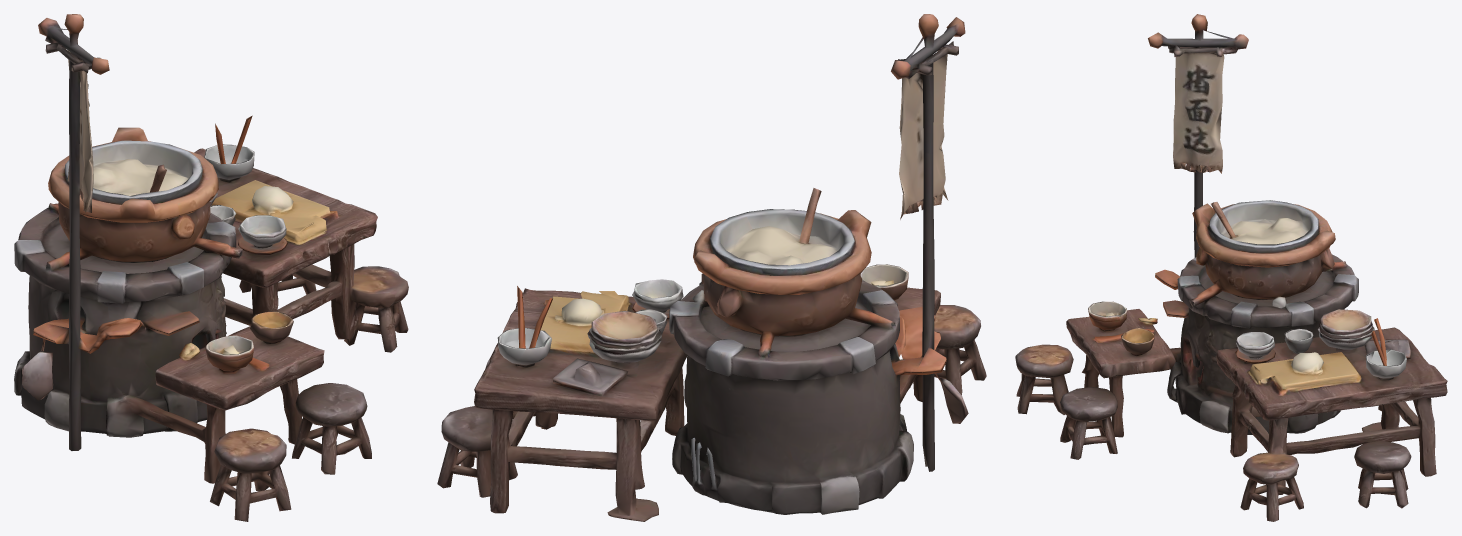
Rendered from stall-noodle.glb.
The picture shows the model from 3 angles, left to right: view 1: azimuth 30°, elevation 25°; view 2: azimuth 150°, elevation 25°; view 3: azimuth 270°, elevation 25°; orthographic projection. The views are drawn at different scales.
Visible parts, largest first — view 1: tripo_node_1b372d55-b6f7-4a26-8cb3-9908bf5f0b95; view 2: tripo_node_1b372d55-b6f7-4a26-8cb3-9908bf5f0b95; view 3: tripo_node_1b372d55-b6f7-4a26-8cb3-9908bf5f0b95.
Part boxes in pixels (x1,y1,x2,y2): tripo_node_1b372d55-b6f7-4a26-8cb3-9908bf5f0b95: (14,14,408,521); tripo_node_1b372d55-b6f7-4a26-8cb3-9908bf5f0b95: (437,14,986,521); tripo_node_1b372d55-b6f7-4a26-8cb3-9908bf5f0b95: (1015,14,1447,521).
Size of the model in its own units: 0.9165 by 0.9175 by 1.
1 material, 1 textured.
